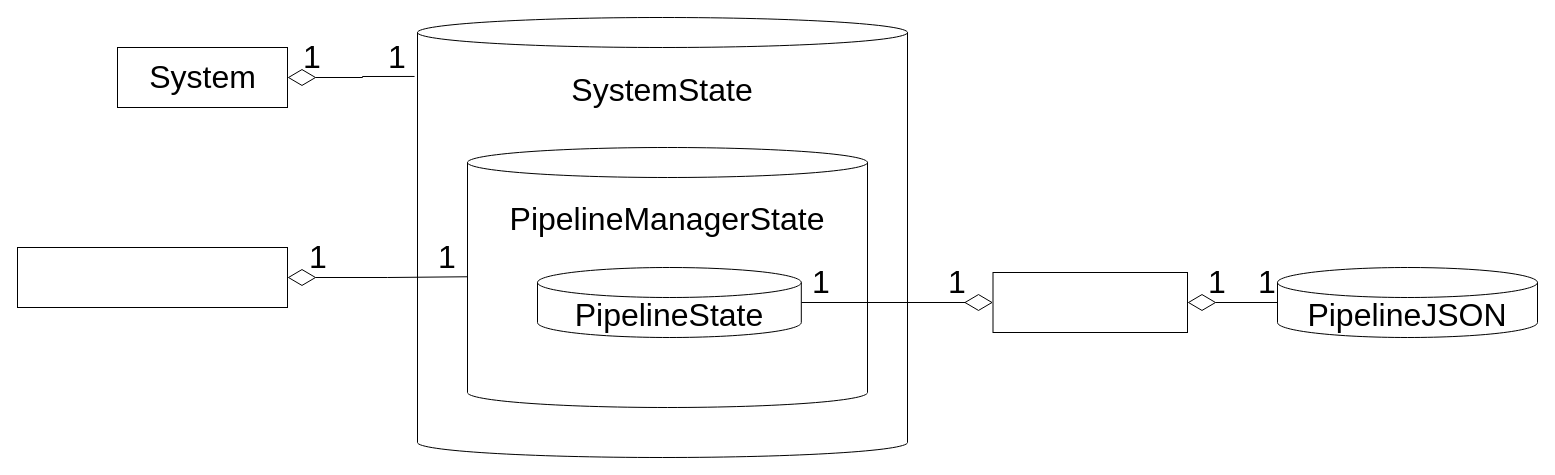
Some shapes in this 1555 by 475 pixel diagram are drawn without their labels. The centre of each missing label's shape, as x and y in pixels:
Pipeline: the point at 1090,302
PipelineManager: the point at 152,277
